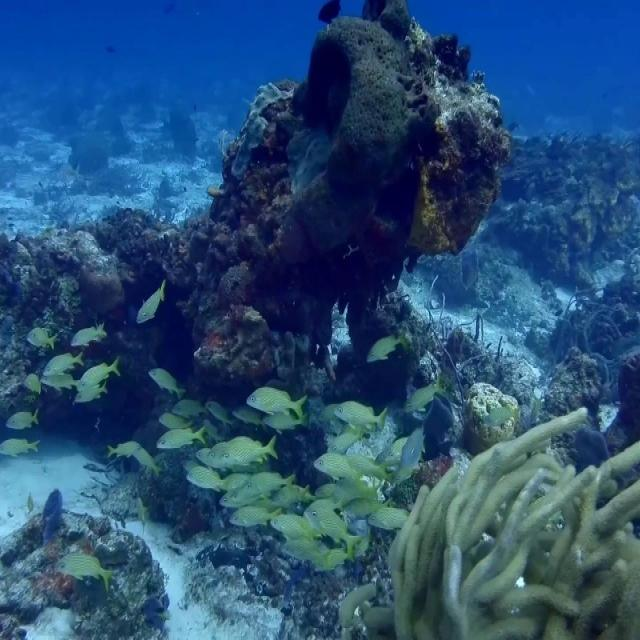aquatic plants: (341, 404, 639, 639)
fish: (305, 507, 361, 560), (55, 553, 114, 593), (249, 384, 307, 418), (220, 435, 277, 463), (337, 400, 388, 428), (240, 471, 295, 496), (81, 356, 122, 388), (314, 453, 362, 480), (156, 426, 208, 449), (137, 279, 164, 321), (368, 506, 410, 532), (149, 369, 185, 399), (270, 515, 319, 537), (232, 507, 283, 525), (187, 466, 225, 490), (43, 353, 83, 375), (409, 382, 438, 412), (220, 488, 258, 509), (41, 372, 81, 391), (74, 381, 107, 403), (8, 407, 39, 428), (1, 439, 40, 455), (71, 329, 104, 346), (28, 329, 55, 347), (25, 373, 42, 391)
sea-floor: (0, 1, 512, 448)
